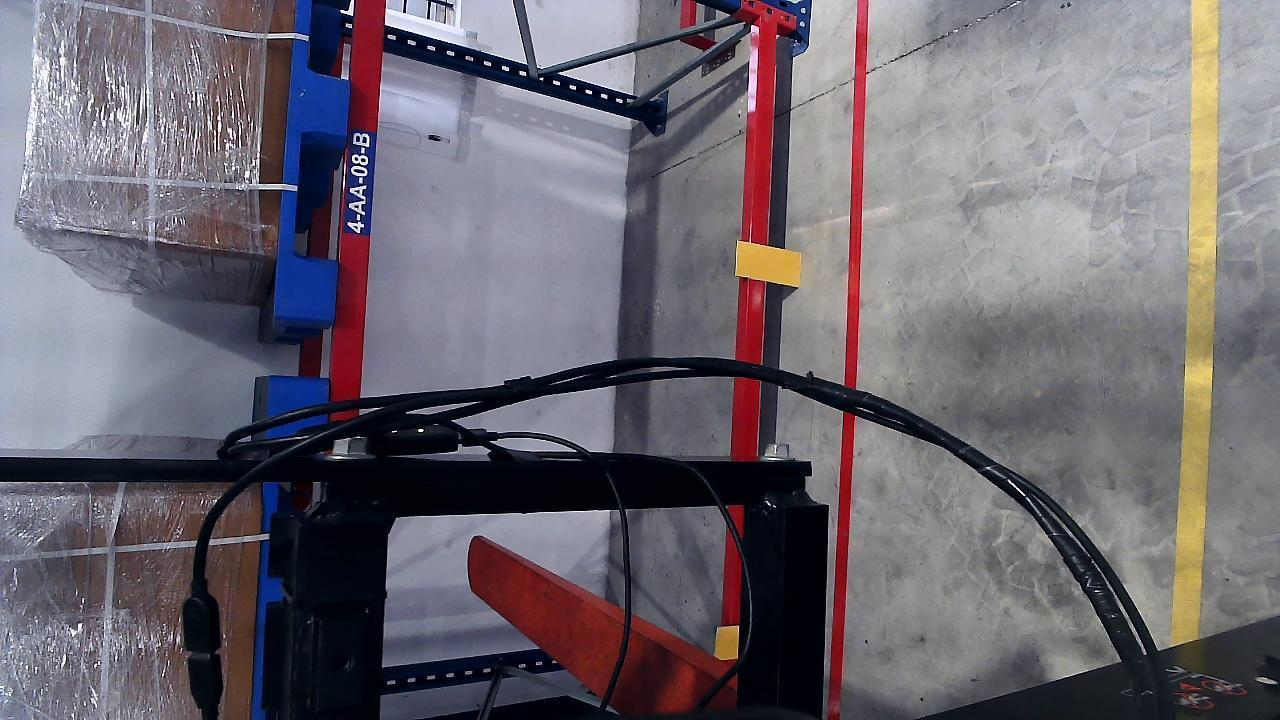red_line: (826, 3, 868, 720)
yellow_line: (1169, 0, 1221, 650)
